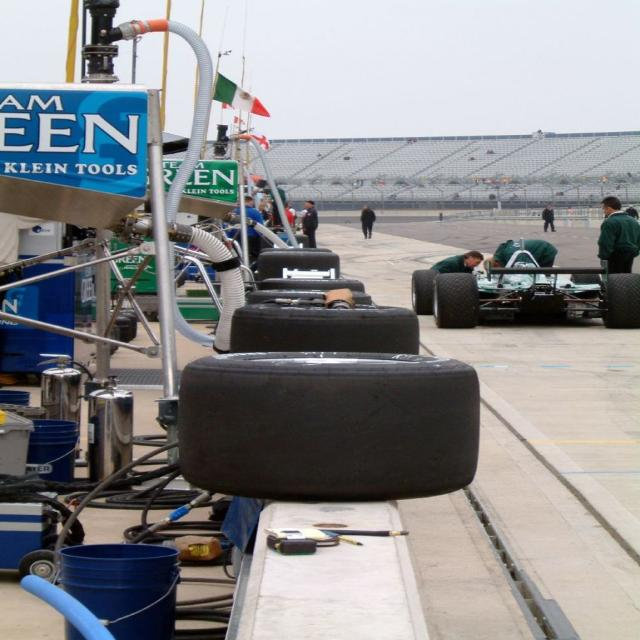car: (404, 235, 622, 319)
